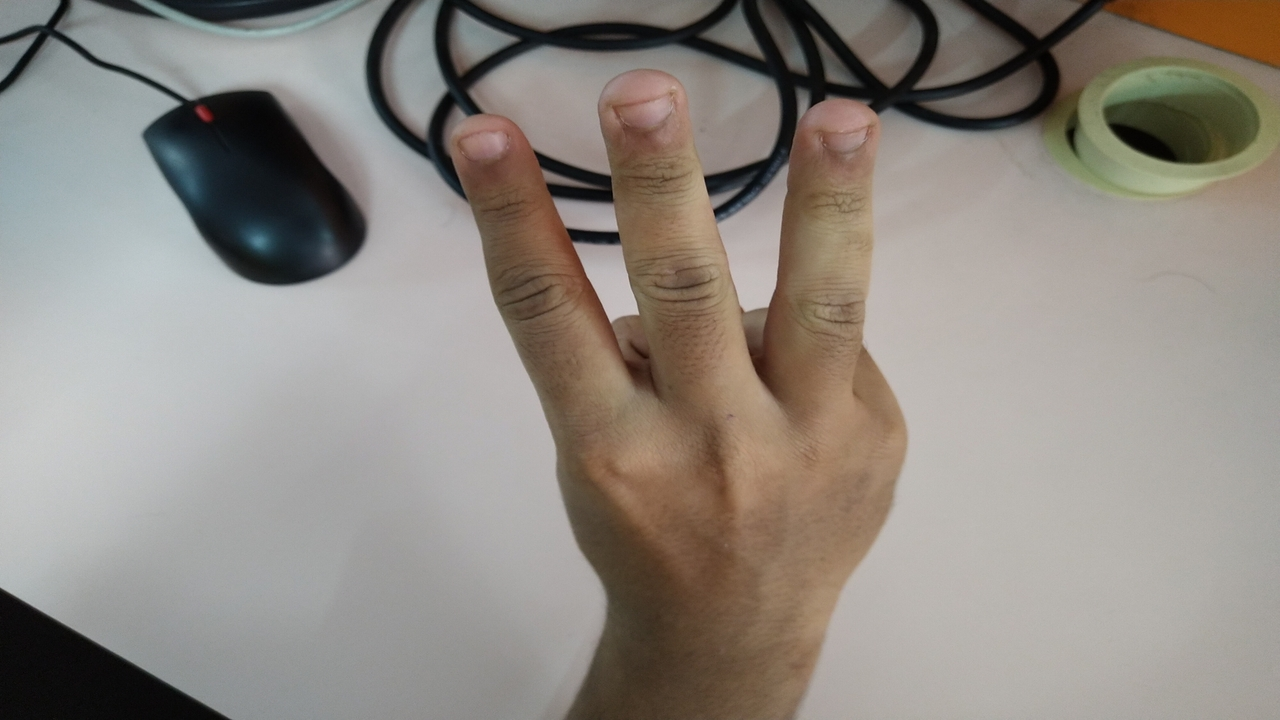fingertip: (786, 94, 890, 168), (586, 74, 694, 143), (441, 109, 526, 180)
